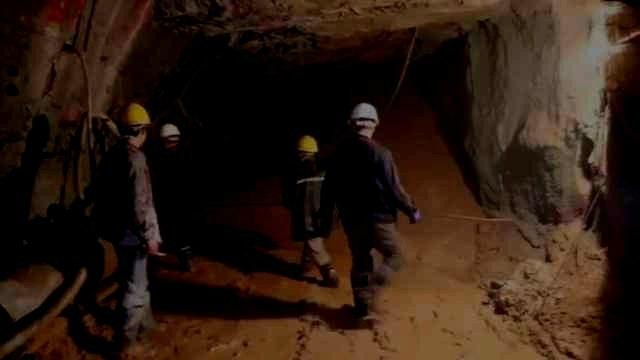helmet: (117, 102, 151, 149), (347, 103, 379, 139), (296, 136, 318, 161), (160, 123, 180, 148)
